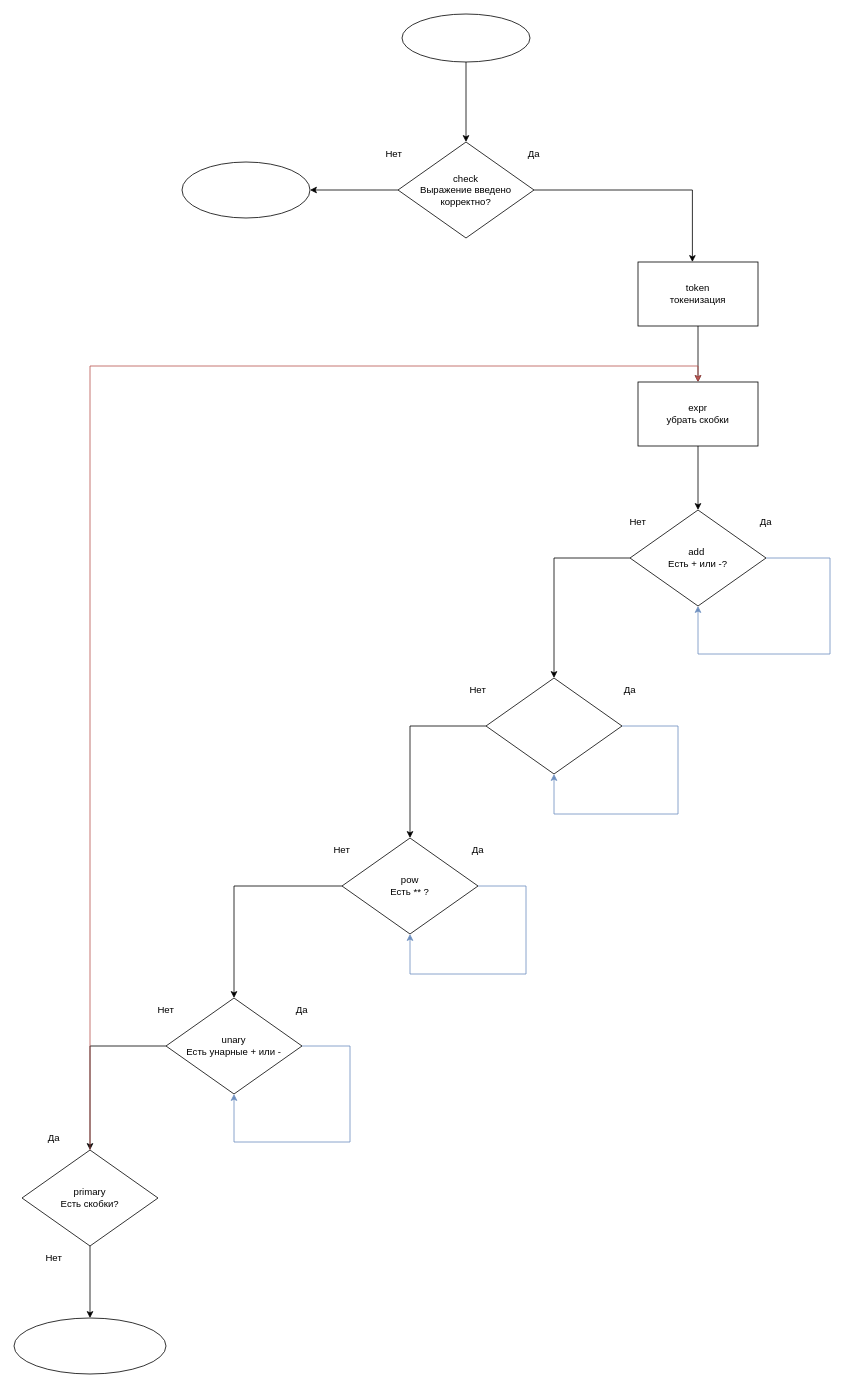
This 850x1388 diagram has some shape labels left out. Each missing label, with the centre of its shape:
"mul Есть * или / или // или %" goes at point 553,725.
"Начало" goes at point 465,37.
"Ответ" goes at point 89,1345.
"Ошибка" goes at point 245,189.
